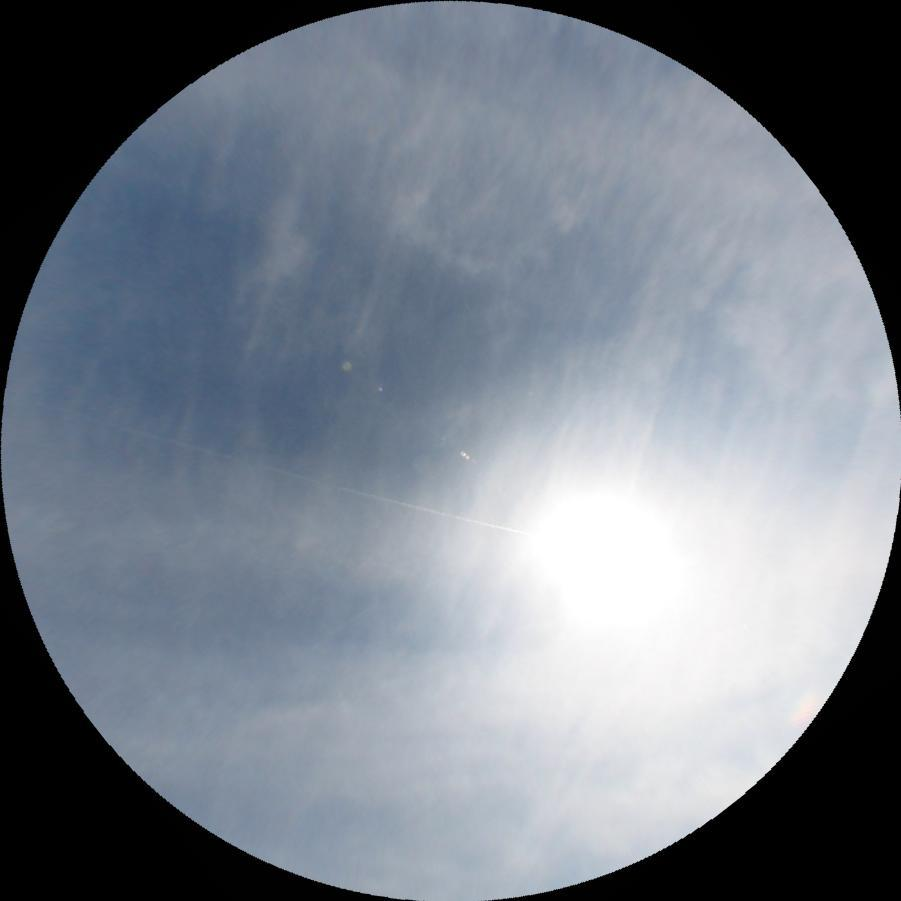contrail young: (2, 392, 531, 540)
sun: (516, 462, 701, 654)
